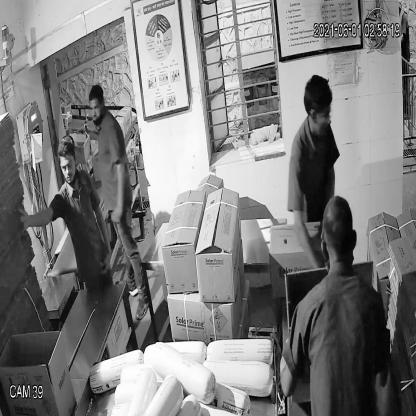no_goggles: (58, 151, 78, 177)
